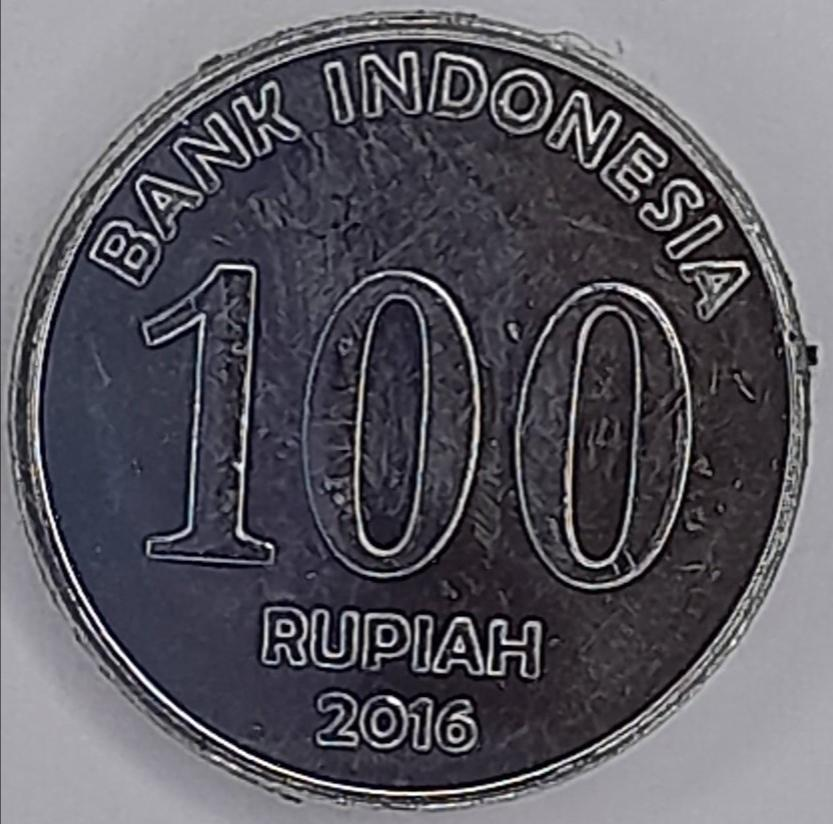coin_100_e2016: (3, 3, 822, 813)
